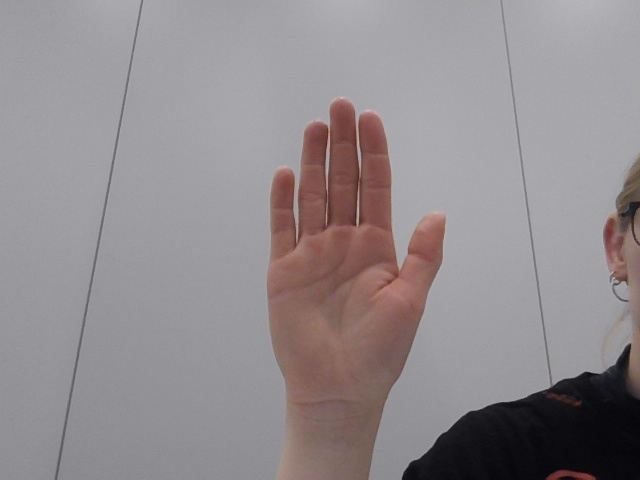nada: (148, 65, 514, 431)
